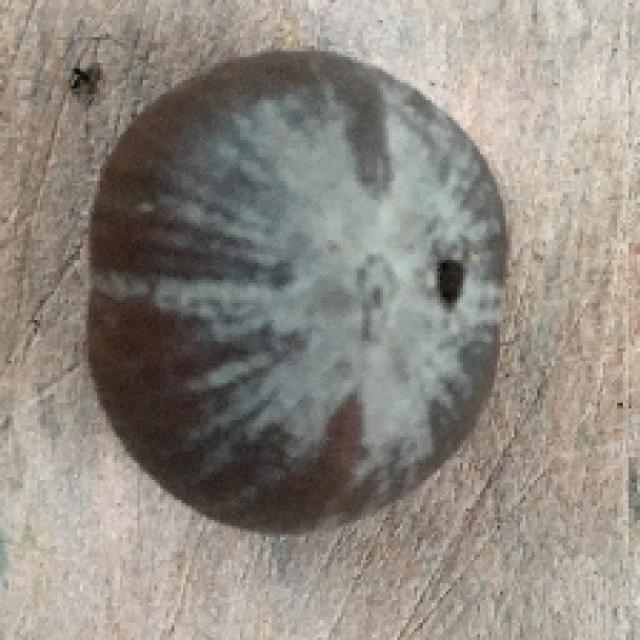damagedHazelnut: (90, 44, 518, 540)
